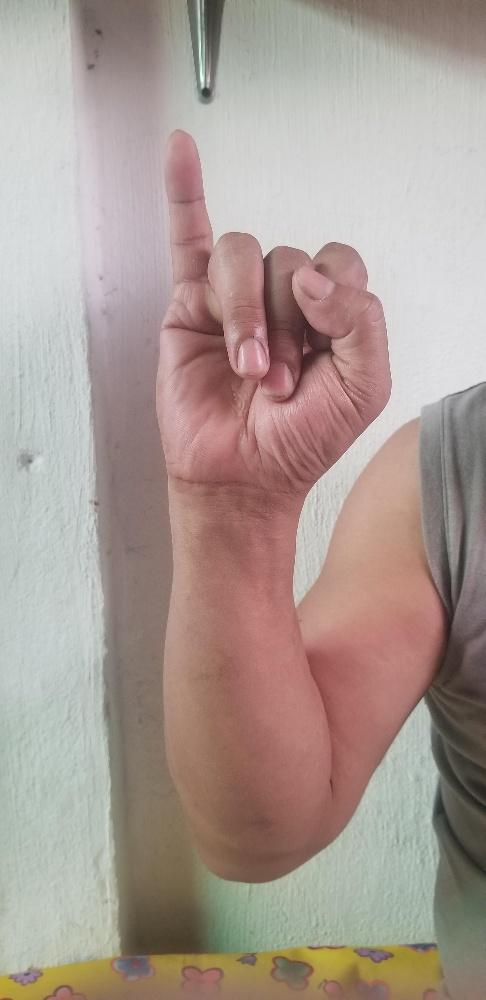i: (154, 126, 392, 467)
